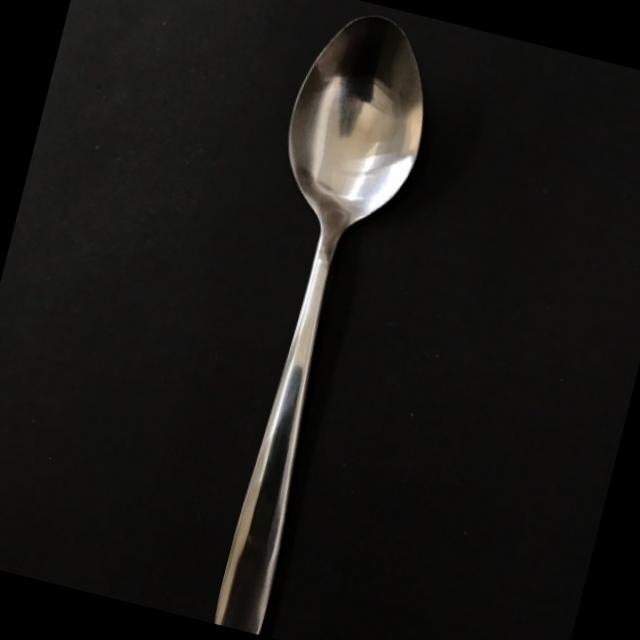spoon: (161, 0, 470, 640)
